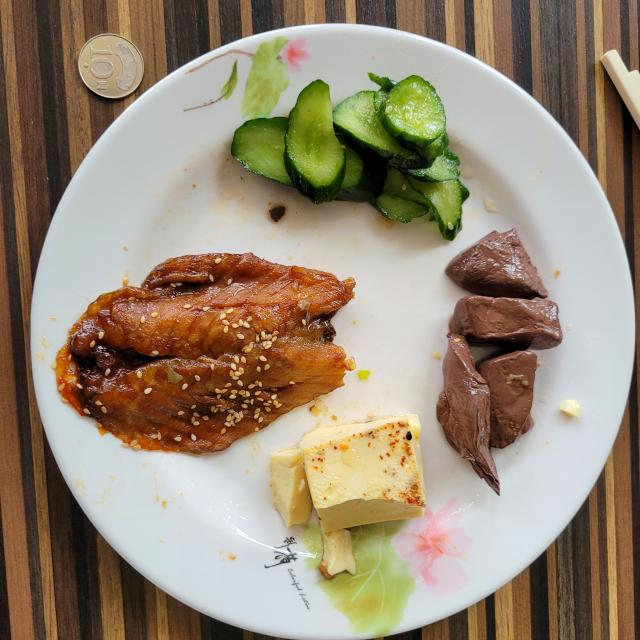Kabayaki sea bream fillet: (56, 254, 355, 454)
coin: (78, 34, 144, 99)
cucumber: (231, 72, 469, 240)
pig blood curd: (436, 332, 536, 494), (445, 229, 562, 350)
